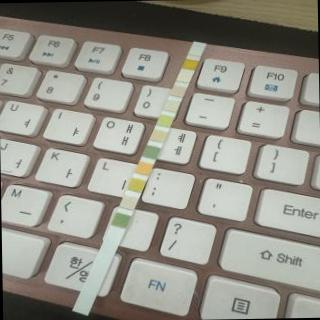mark: (112, 212, 128, 228), (144, 145, 158, 158), (127, 179, 142, 191), (136, 162, 151, 174), (176, 71, 192, 82), (120, 196, 134, 208), (150, 129, 164, 141), (158, 115, 172, 127), (163, 100, 177, 112), (172, 84, 186, 96), (188, 46, 202, 57), (184, 59, 198, 69)
